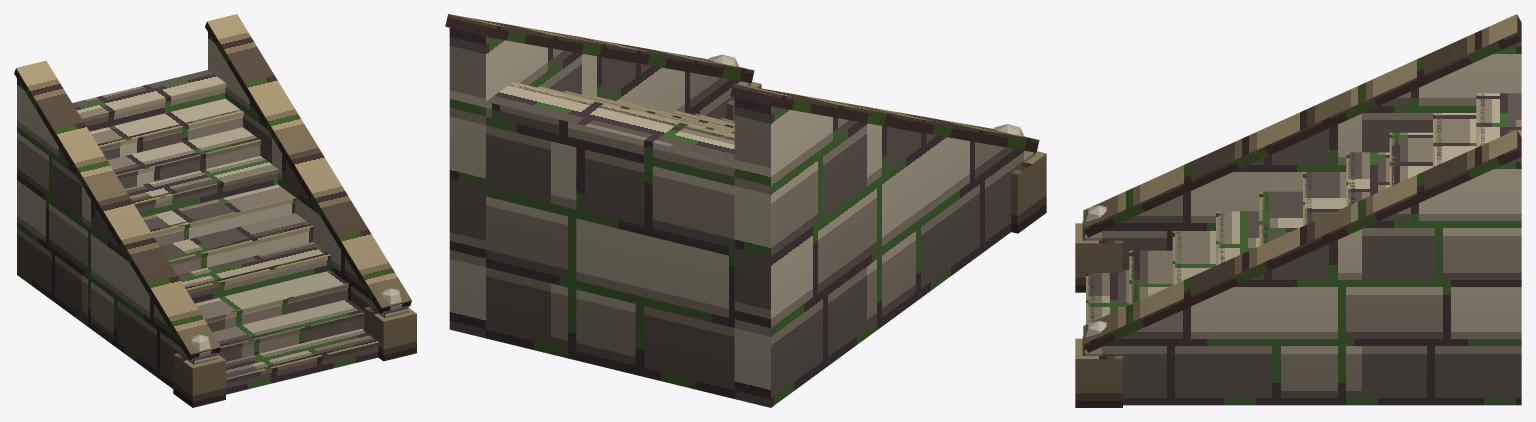
File: scene_stair_back.glb
3 renders of one model, left to right at view 1: azimuth 30°, elevation 25°; view 2: azimuth 150°, elevation 25°; view 3: azimuth 270°, elevation 25°, orthographic. The views are drawn at different scales.
Visible parts, largest first — view 1: scene_stair_back; view 2: scene_stair_back; view 3: scene_stair_back.
Boxes of the visible parts, bbox=[...] form: scene_stair_back: bbox=[14, 14, 416, 407]; scene_stair_back: bbox=[445, 14, 1046, 407]; scene_stair_back: bbox=[1075, 14, 1521, 407].
Bounding box in the file's own units: 2.96 × 2.64 × 4.12.
Materials: 2 (1 with a texture image).
